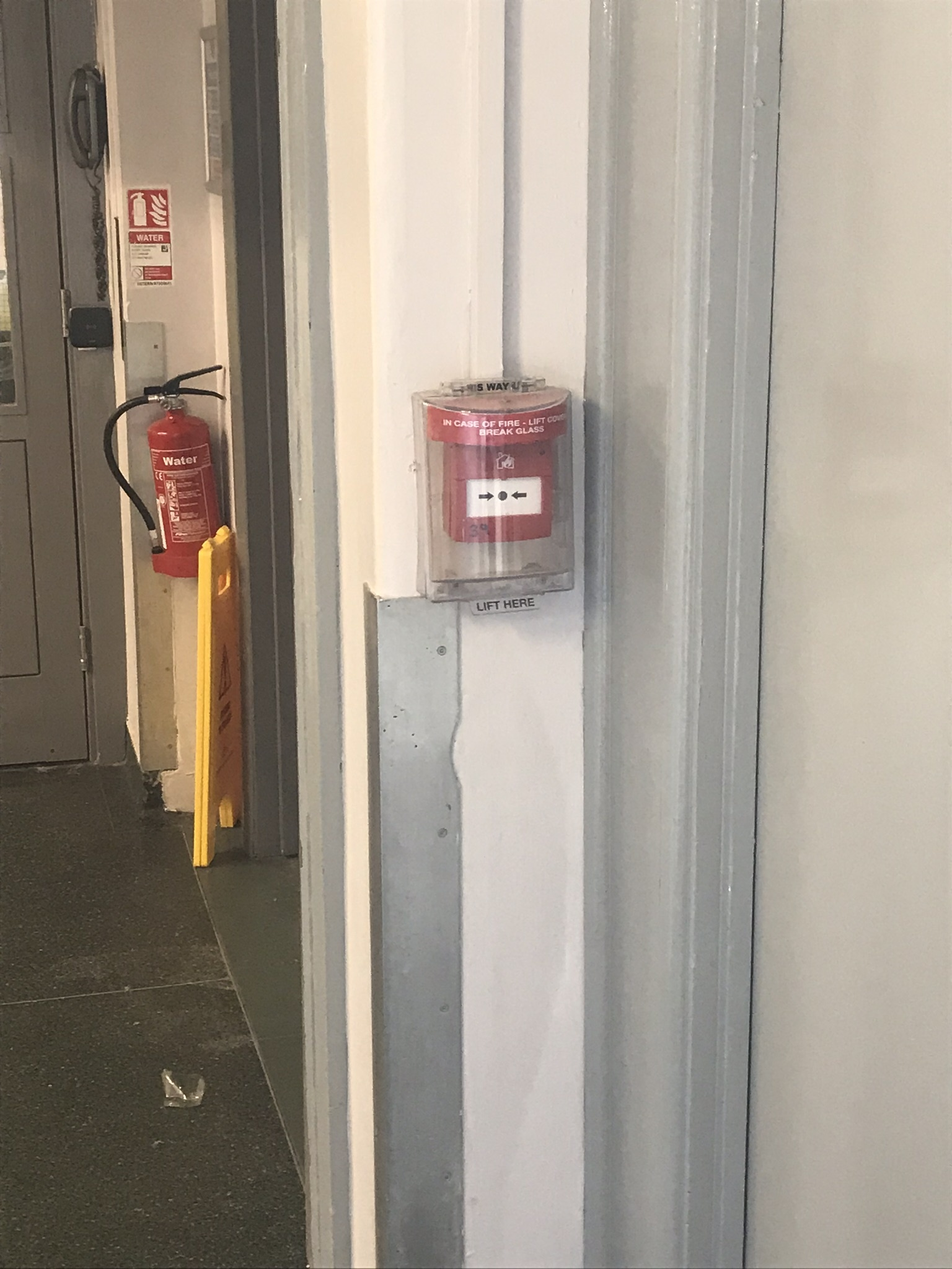fire_extinguisher: (102, 364, 228, 579)
